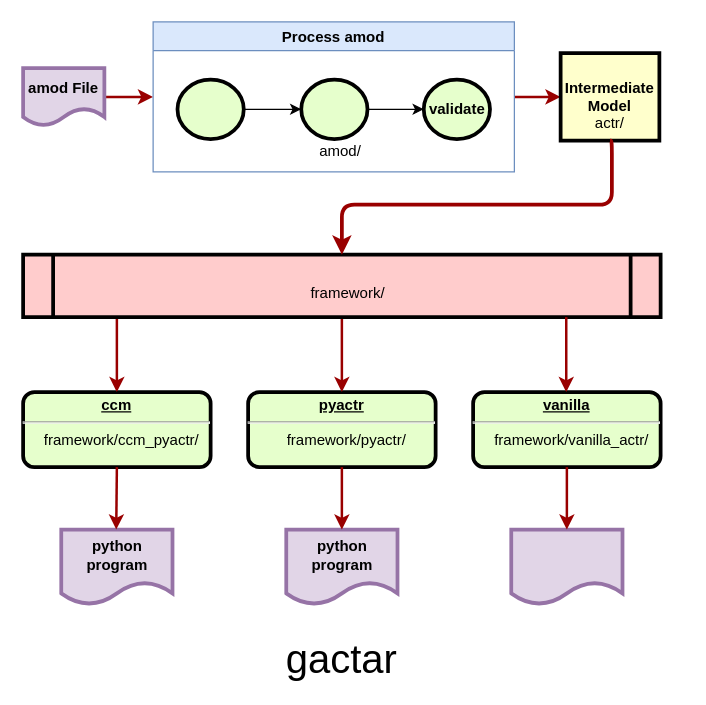
Some shapes in this 706 by 705 pixel diagram are drawn without their labels. Here are the shapes that lost their labels. From the top down, the box of each, then its label:
(175, 77, 245, 140): lex
(299, 77, 369, 140): parse
(21, 252, 662, 318): Implementation Interface
(509, 527, 624, 606): lisp program
